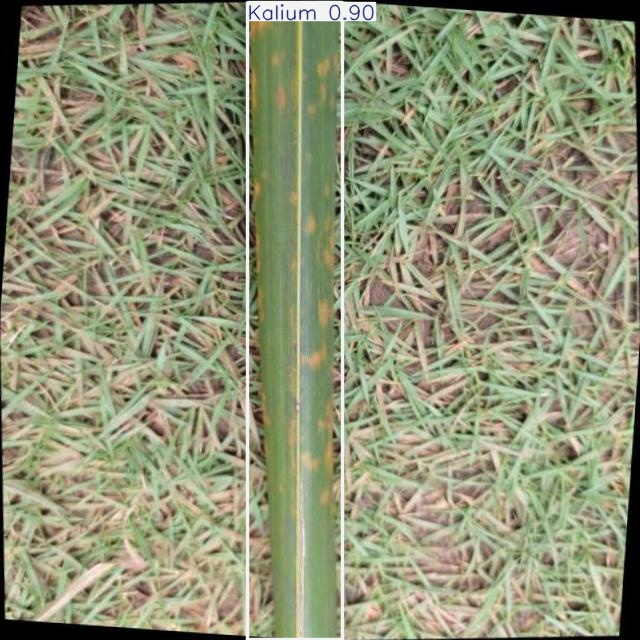Kalium: (247, 3, 343, 639)
